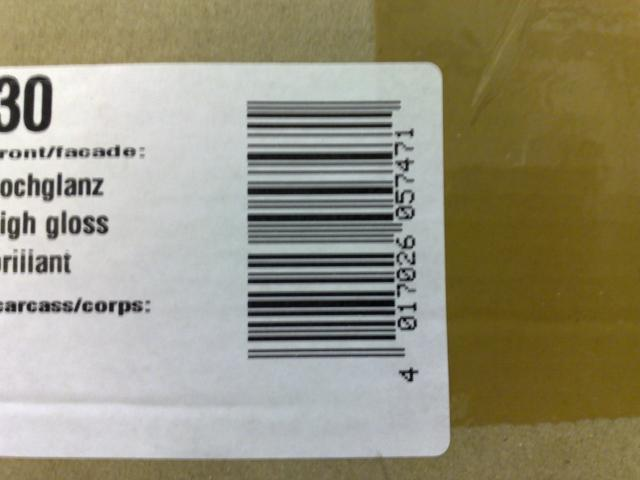Barcode: (241, 95, 427, 396)
